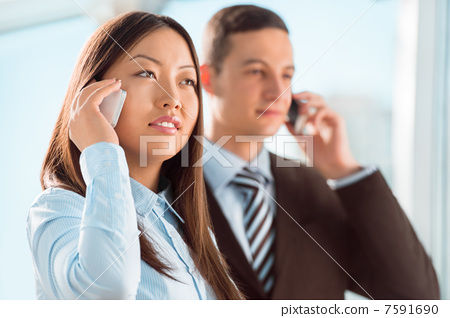phone: (81, 76, 122, 132), (281, 90, 318, 133)
talk: (63, 43, 200, 163)
